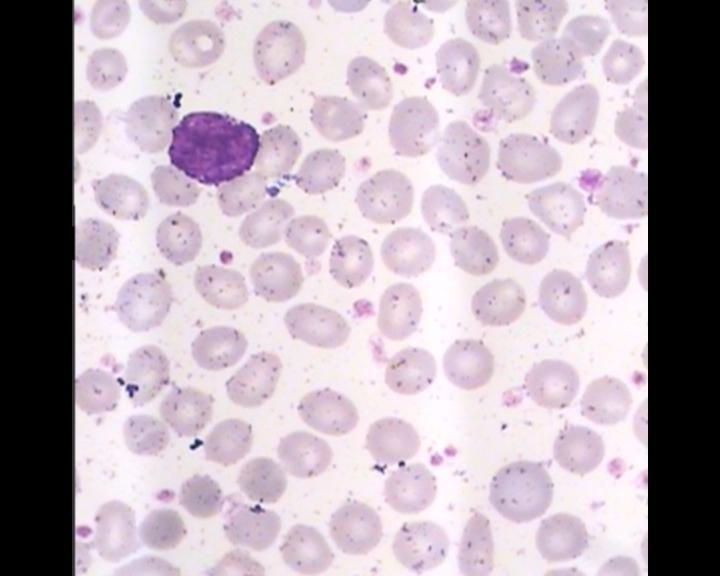baso: (160, 107, 263, 188)
